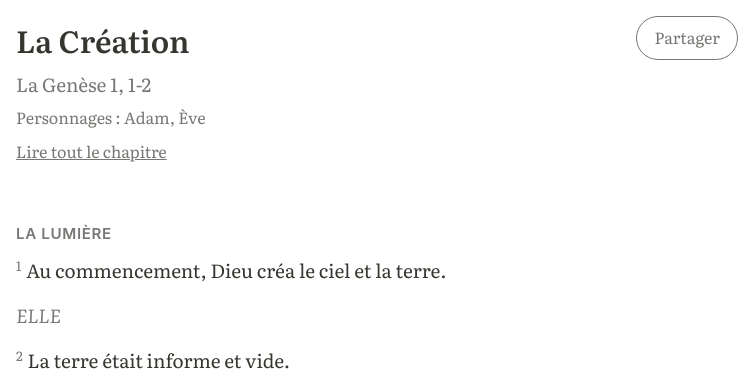
Passage : bouton Partager › si le partage échoue, le dit
The image size is (755, 386).
Click the button "Partager" at (687, 38), box [636,16,738,60]
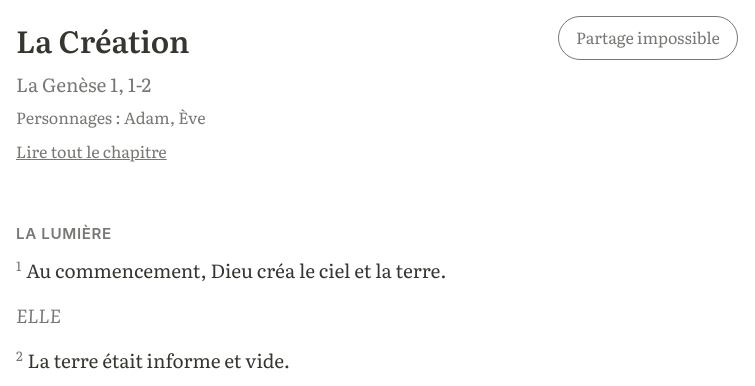
Expected: the button "Partage impossible" is shown, [558,16,738,60]
